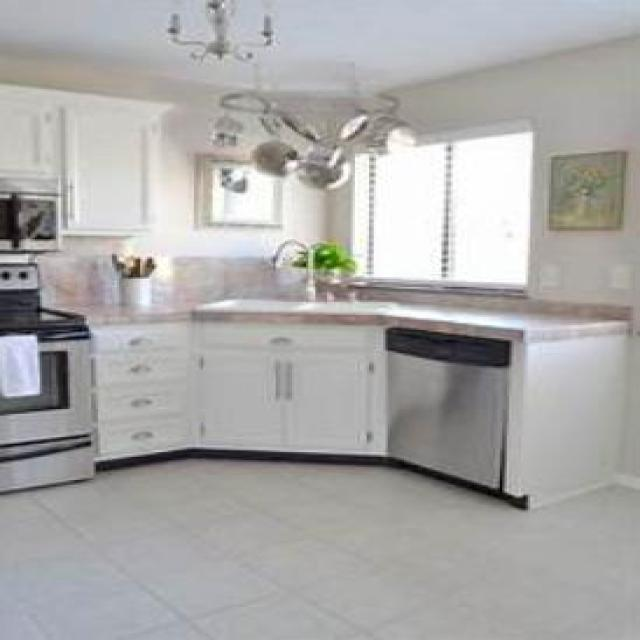dishwasher: (381, 323, 507, 495)
